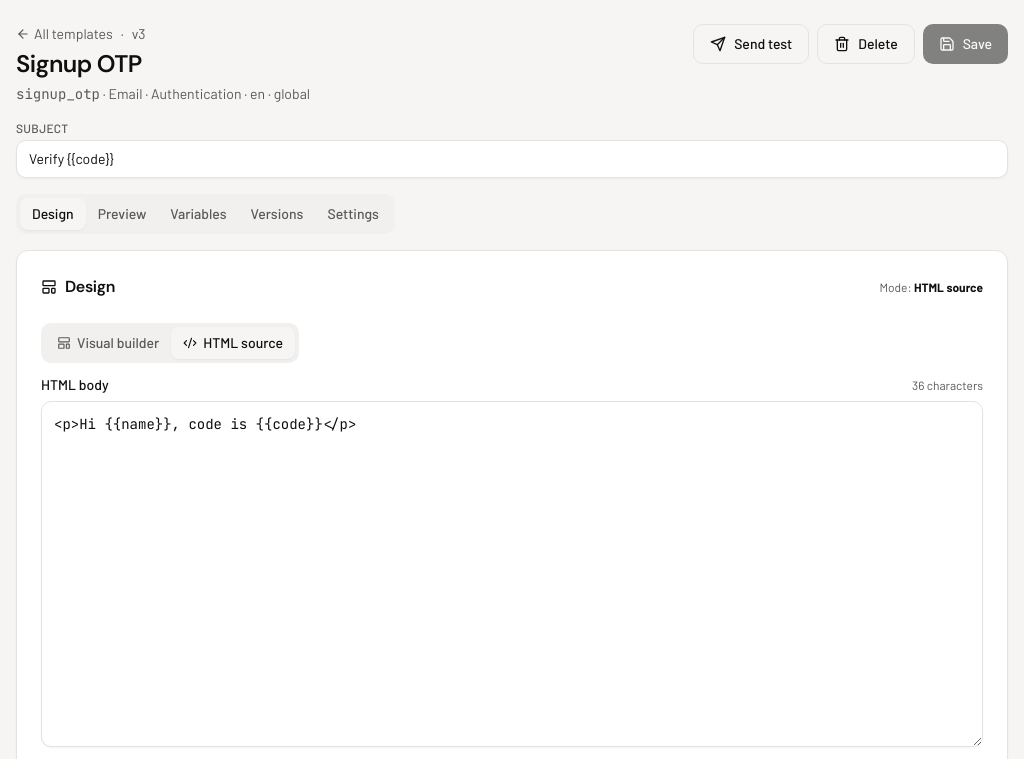
dirty tracking + Save › enables Save after the admin edits the subject
The width and height of the screenshot is (1024, 759).
Check: the heading "Signup OTP" is shown, box [16,48,142,79]
In the field labelled "Subject": (512, 159) [16,140,1008,178], type " now"
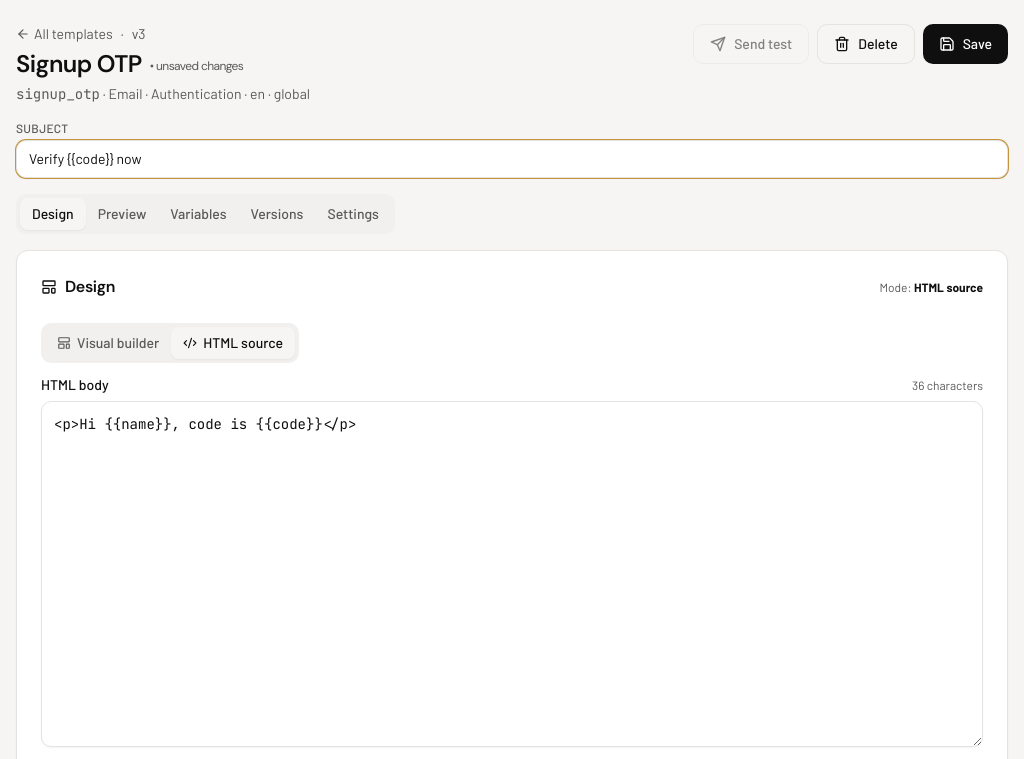
Check: the text "• unsaved changes" is shown, box [150,58,243,74]
Check: the button "Save" is enabled, box [923,24,1008,64]
